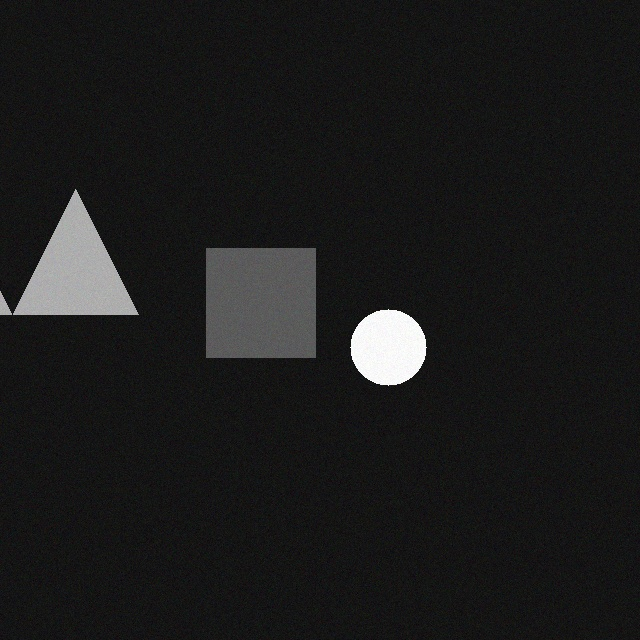circle: (338, 321, 414, 397)
square: (194, 260, 303, 369)
triangle: (1, 201, 126, 326)
